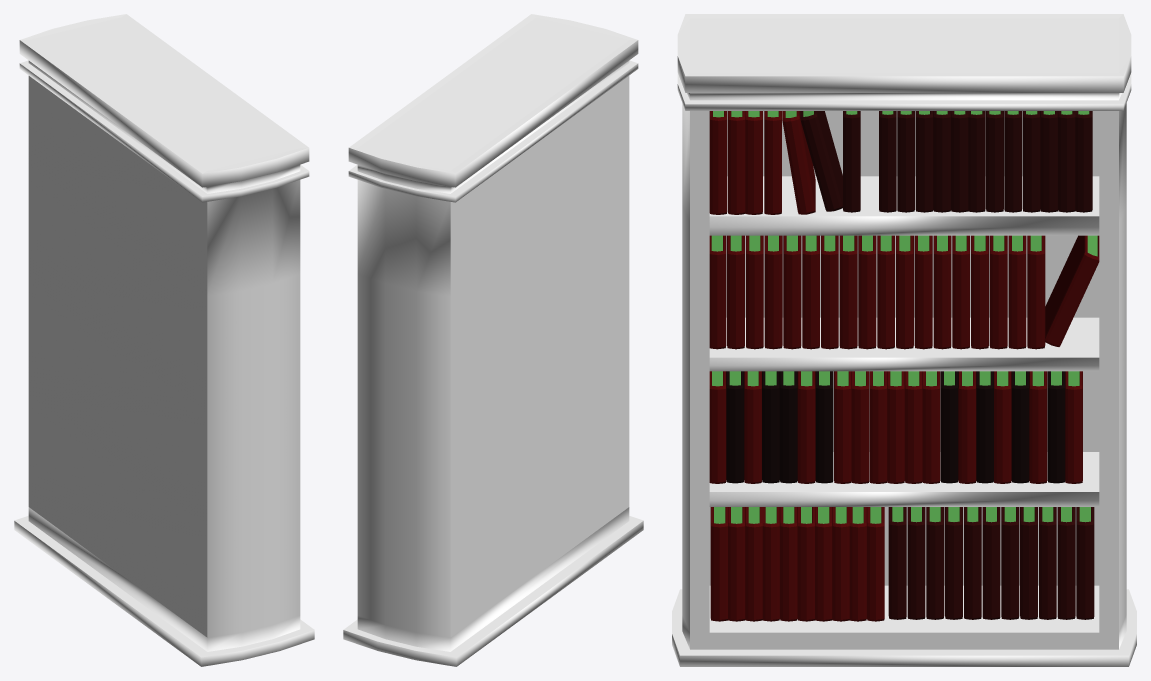
The model's file is Right1.fbx.
The picture shows the model from 3 angles, left to right: view 1: azimuth 30°, elevation 25°; view 2: azimuth 150°, elevation 25°; view 3: azimuth 270°, elevation 25°; orthographic projection. The views are drawn at different scales.
Parts seen in each view (by area): view 1: Book Shelf; view 2: Book Shelf; view 3: Book Shelf.
Part boxes in pixels (bbox=[...]): Book Shelf: bbox=[14, 14, 314, 666]; Book Shelf: bbox=[343, 14, 643, 666]; Book Shelf: bbox=[672, 14, 1136, 666].
Size of the model in its own units: 381 by 1574 by 1127.
